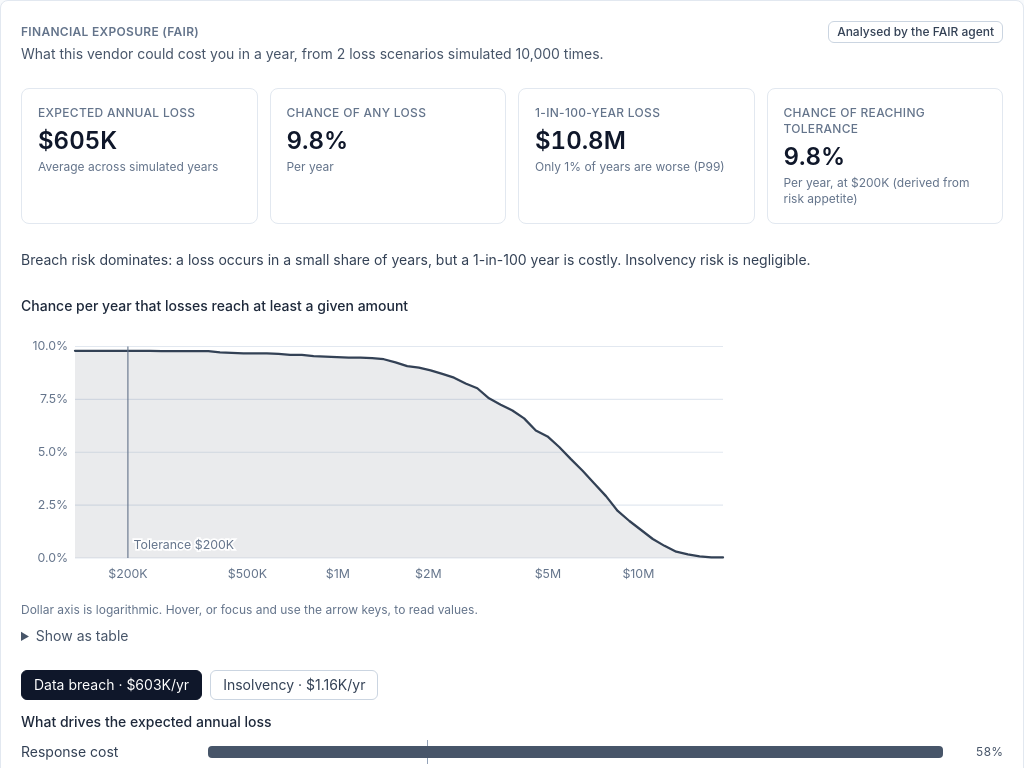
Scenario: scenario tabs switch the drivers chart
Expected: the text "Response cost" is shown, [21,743,118,760]
What coordinates should you click on to do the following:
click the tab "Insolvency · $1.16K/yr"
I would click on:
 (294, 685)
Its box is [210,670,378,700].
(page scrolled)
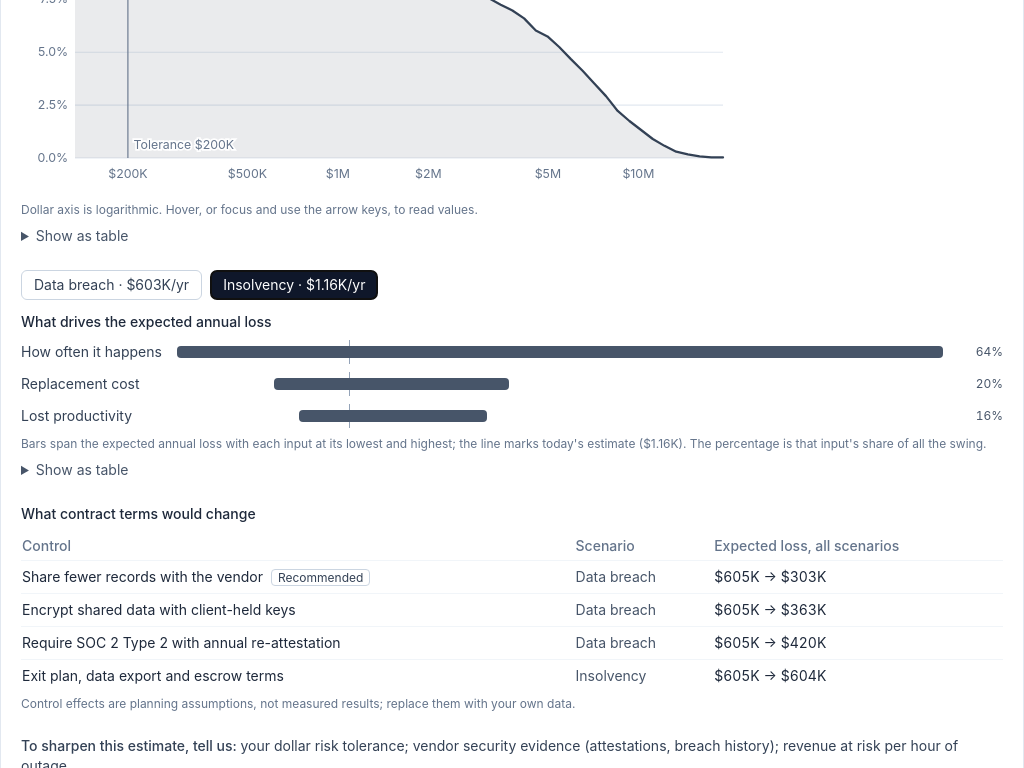
Now the text "Replacement cost" is shown, box [21,375,140,392]
Now the text "Response cost" is gone
